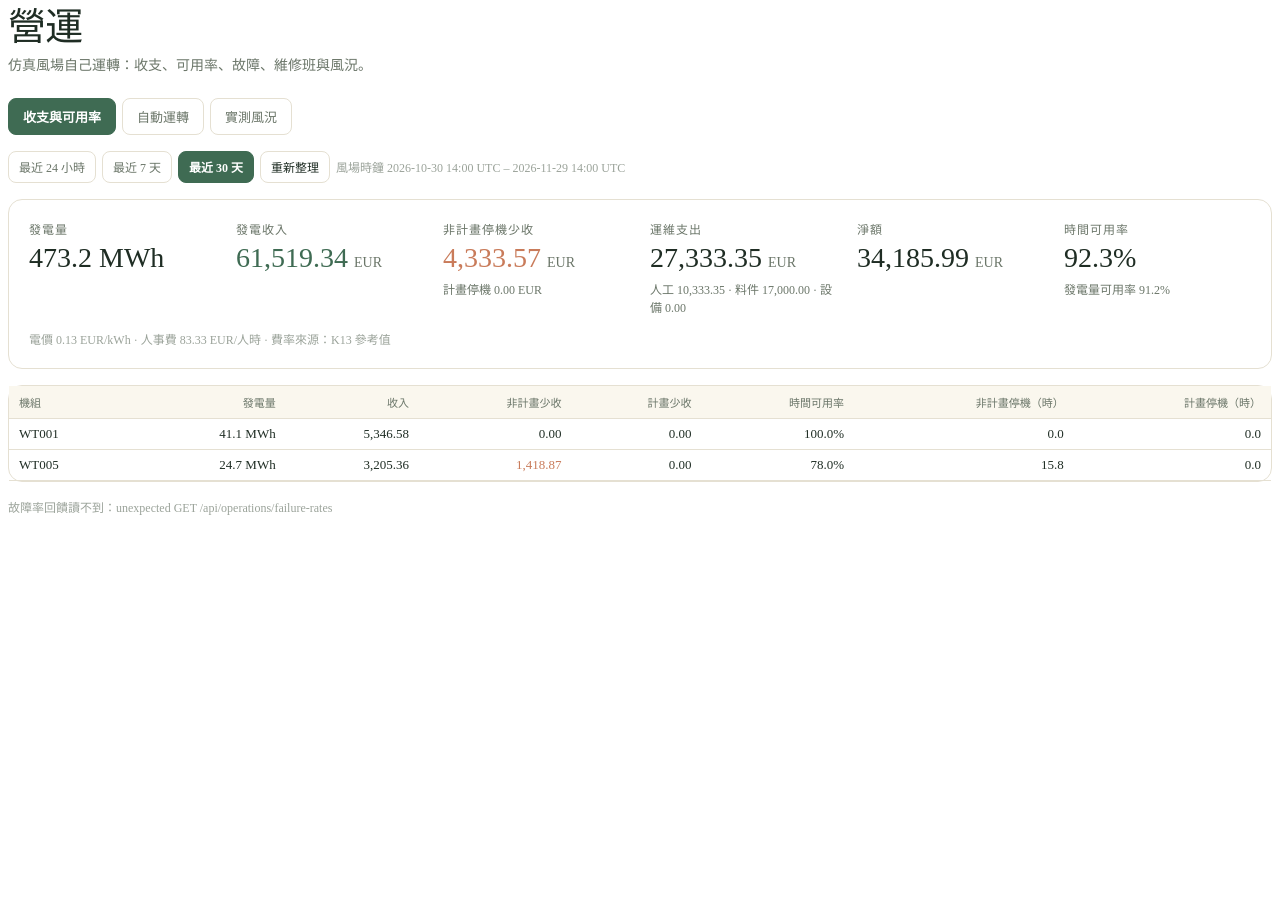
Test case: 自動運轉 › 不是數字時不送
The width and height of the screenshot is (1280, 900).
Click the button "自動運轉" at {"x": 163, "y": 116}, box [122,98,204,135]
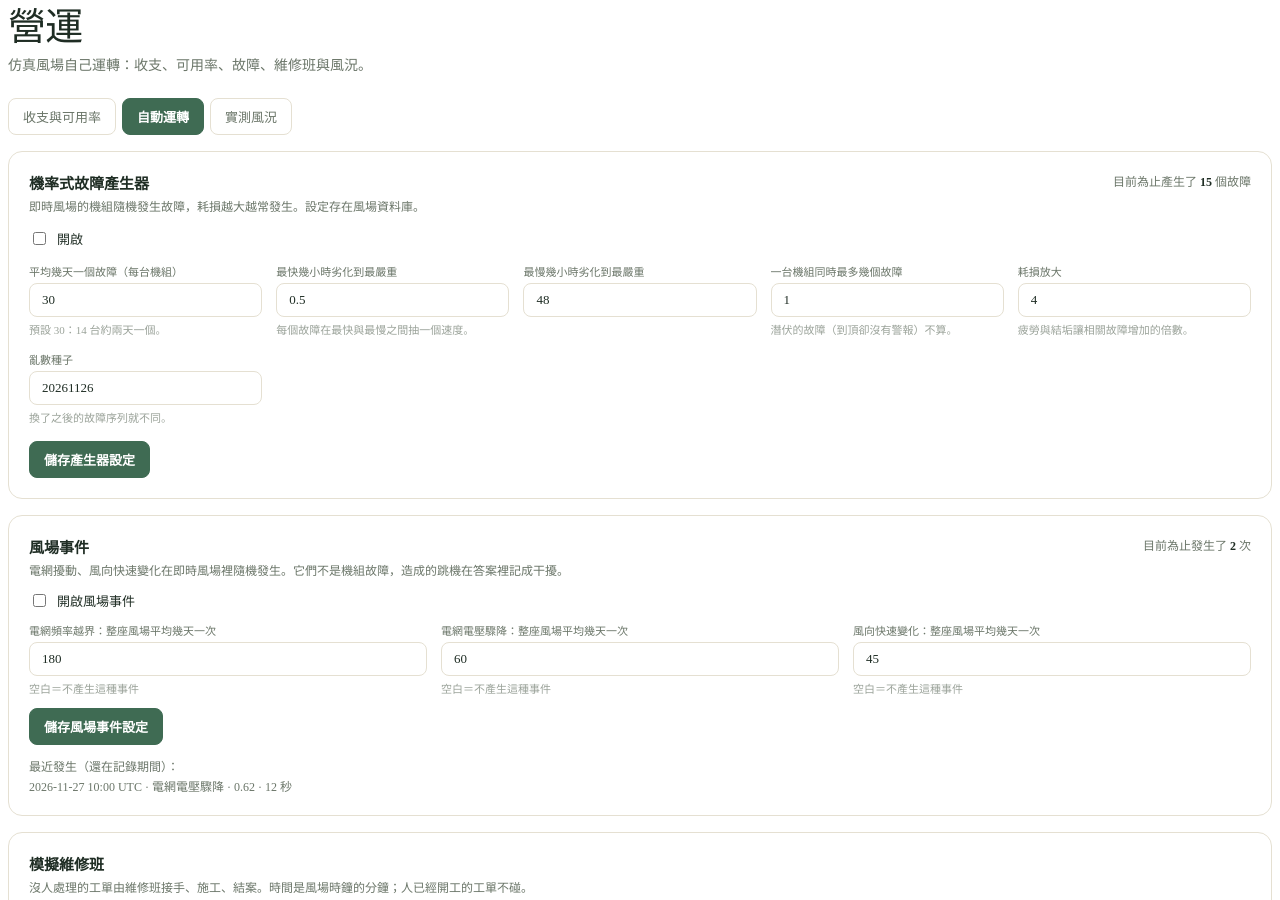
expect the number field labelled "平均幾天一個故障（每台機組）" is shown: met, box [29,283,262,317]
Replace the text in the number field labelled "一台機組同時最多幾個故障" with "1.5" at {"x": 887, "y": 300}, box [771,283,1004,317]
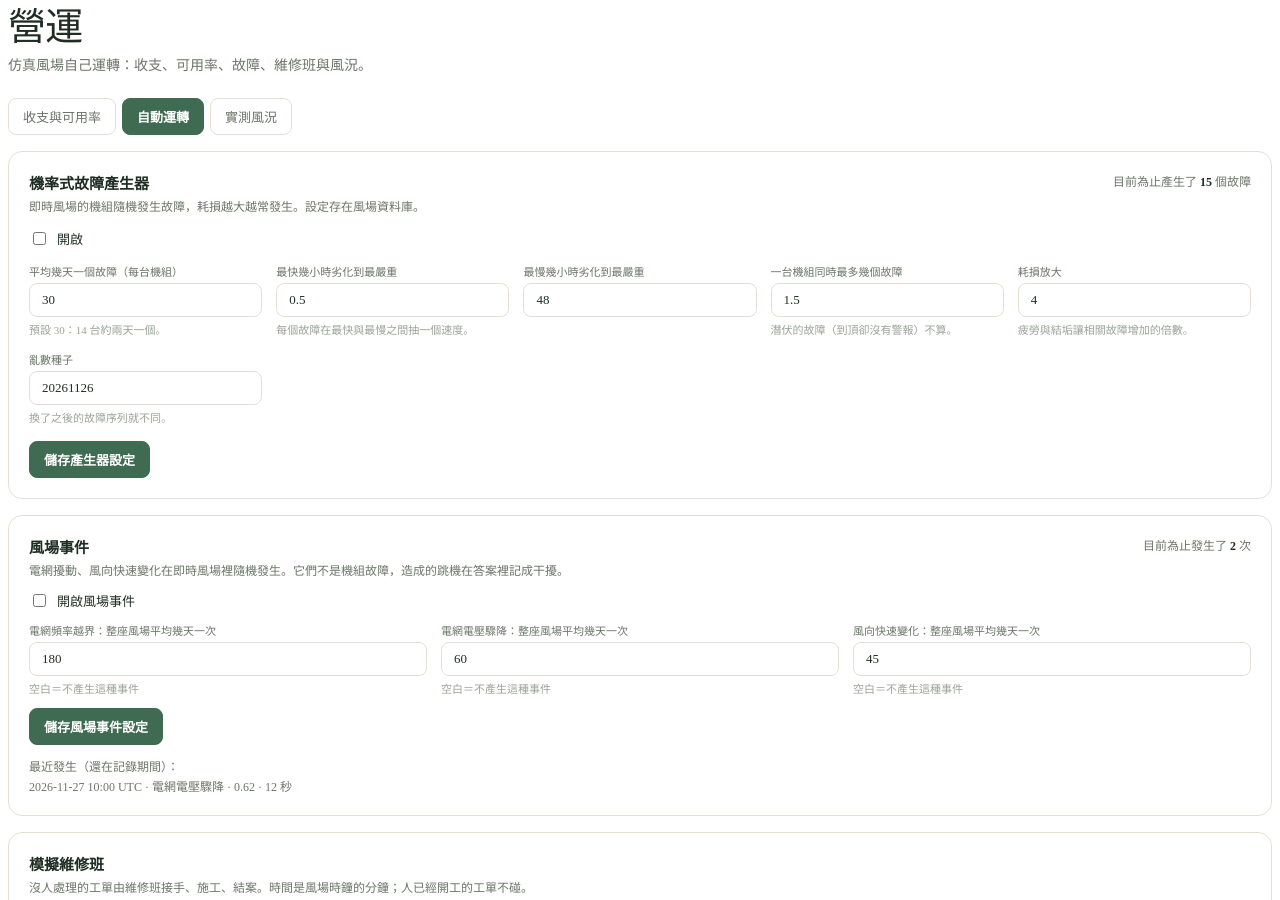
Click the button "儲存產生器設定" at {"x": 90, "y": 459}, box [29,441,150,478]
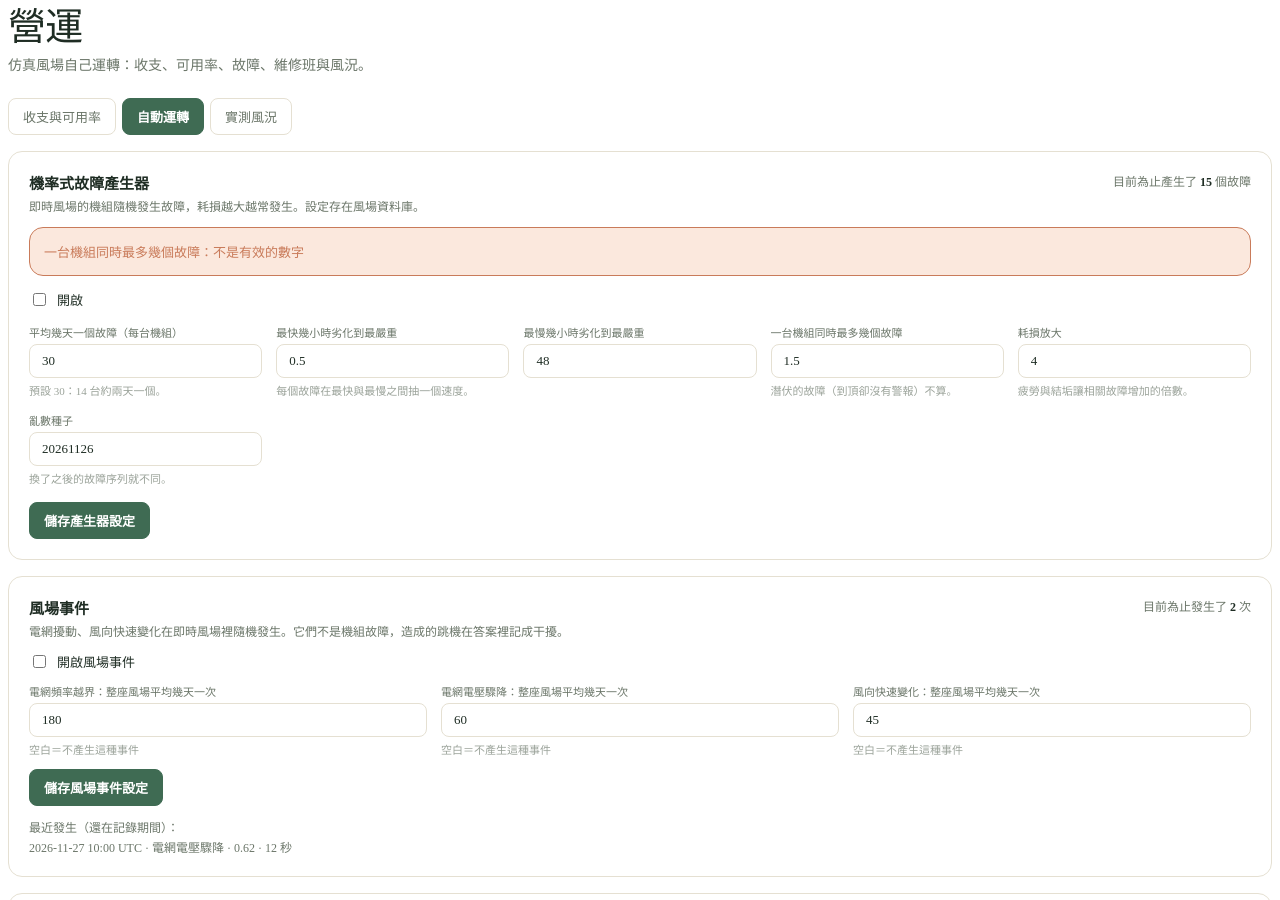
expect the message shows "不是有效的數字": met, box [44,245,304,260]
